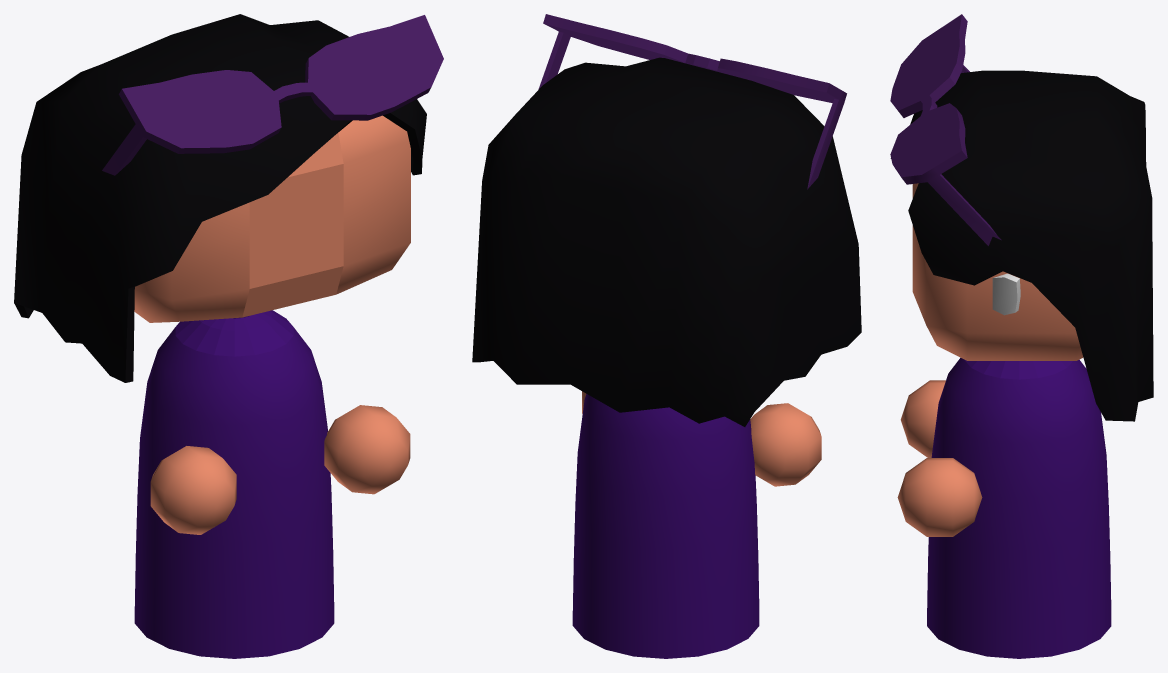
Rendered from GemmaAndar.fbx.
3 views of the same model, side by side, from view 1: azimuth 30°, elevation 25°; view 2: azimuth 150°, elevation 25°; view 3: azimuth 270°, elevation 25° (orthographic). The views are drawn at different scales.
Parts seen in each view (by area): view 1: Plane001, Cylinder001, Box001, Box002, Sphere001, Sphere002; view 2: Plane001, Cylinder001, Box002, Sphere002; view 3: Plane001, Cylinder001, Box001, Box002, Sphere001, Sphere002, Box003.
Boxes of the visible parts, left/top/right/bottom form: Plane001: left=14, top=14, right=426, bottom=382; Cylinder001: left=134, top=310, right=334, bottom=658; Box001: left=134, top=115, right=410, bottom=322; Box002: left=102, top=15, right=443, bottom=175; Sphere001: left=324, top=405, right=410, bottom=494; Sphere002: left=150, top=446, right=236, bottom=534; Plane001: left=472, top=57, right=861, bottom=426; Cylinder001: left=572, top=394, right=759, bottom=658; Box002: left=538, top=14, right=846, bottom=189; Sphere002: left=750, top=403, right=821, bottom=486; Plane001: left=890, top=70, right=1153, bottom=421; Cylinder001: left=927, top=357, right=1111, bottom=658; Box001: left=912, top=183, right=1083, bottom=360; Box002: left=890, top=14, right=1001, bottom=245; Sphere001: left=897, top=458, right=982, bottom=536; Sphere002: left=900, top=380, right=945, bottom=457; Box003: left=992, top=273, right=1020, bottom=315.
Size of the model in its own units: 0.0515 by 0.0395 by 0.0895.
